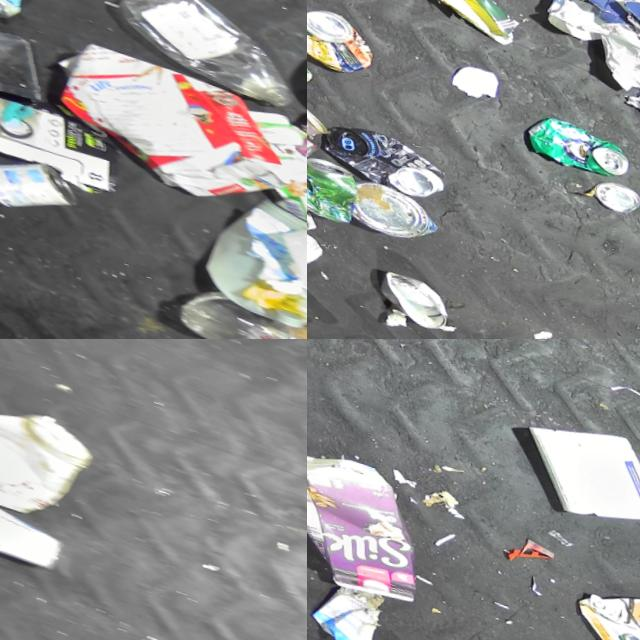can: (310, 109, 447, 201), (515, 99, 631, 175), (0, 136, 83, 231), (339, 169, 438, 245), (365, 260, 451, 329), (307, 0, 376, 76), (307, 143, 358, 220), (582, 165, 638, 208), (307, 85, 326, 139)
non_white_jug: (98, 0, 307, 107), (307, 433, 436, 606), (555, 556, 640, 640)
